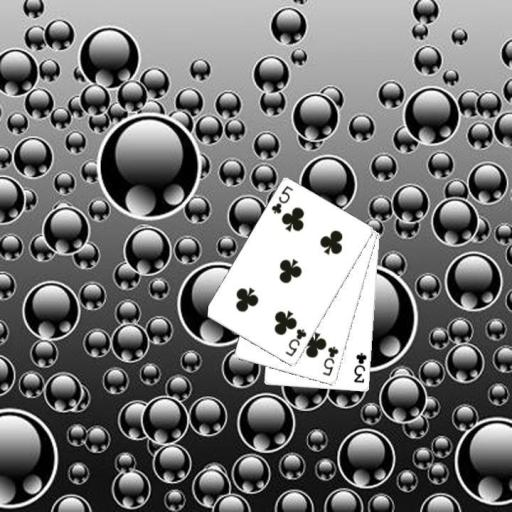3C: (351, 350, 369, 385)
5C: (282, 326, 308, 358), (268, 183, 294, 215), (319, 344, 340, 378)
